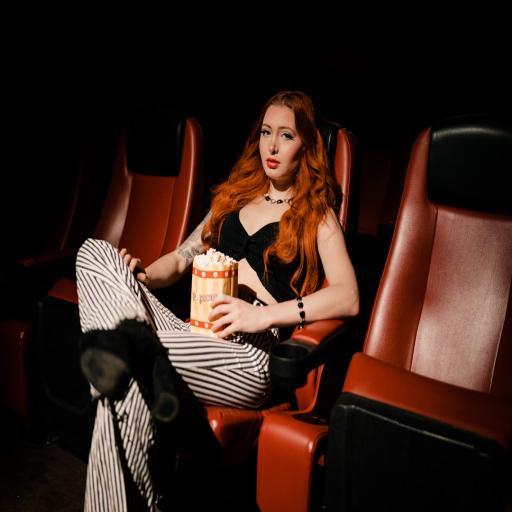face: (259, 105, 303, 187)
